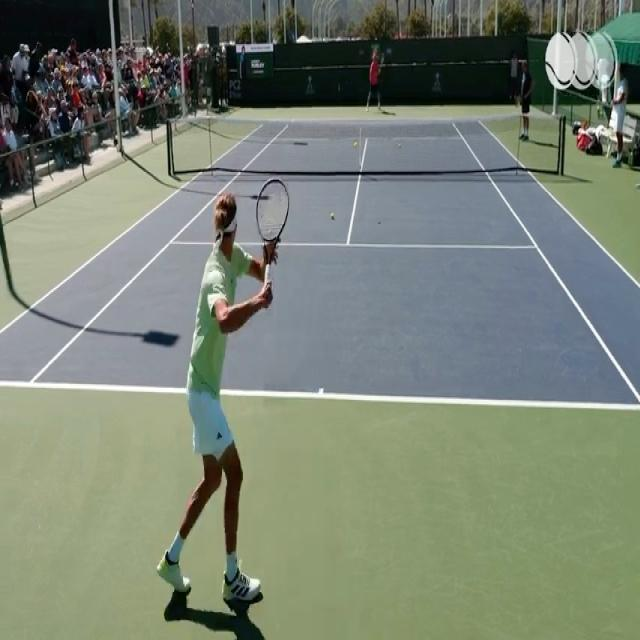forehand-ready: (176, 185, 290, 620)
